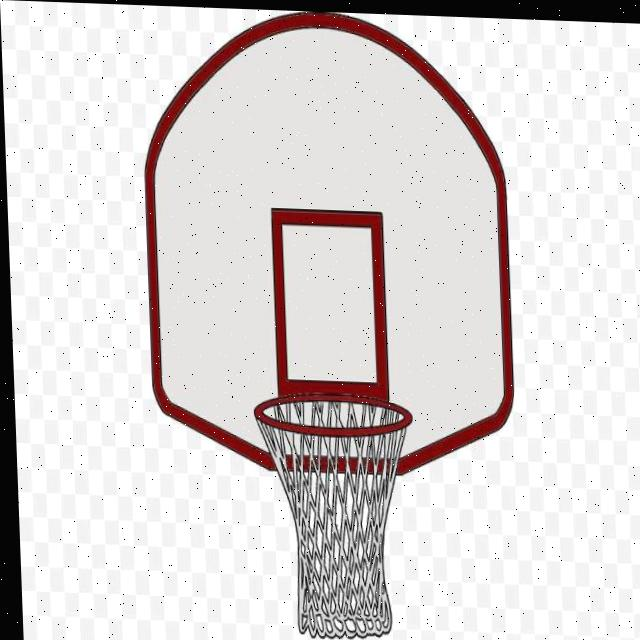hoop: (254, 392, 421, 640)
